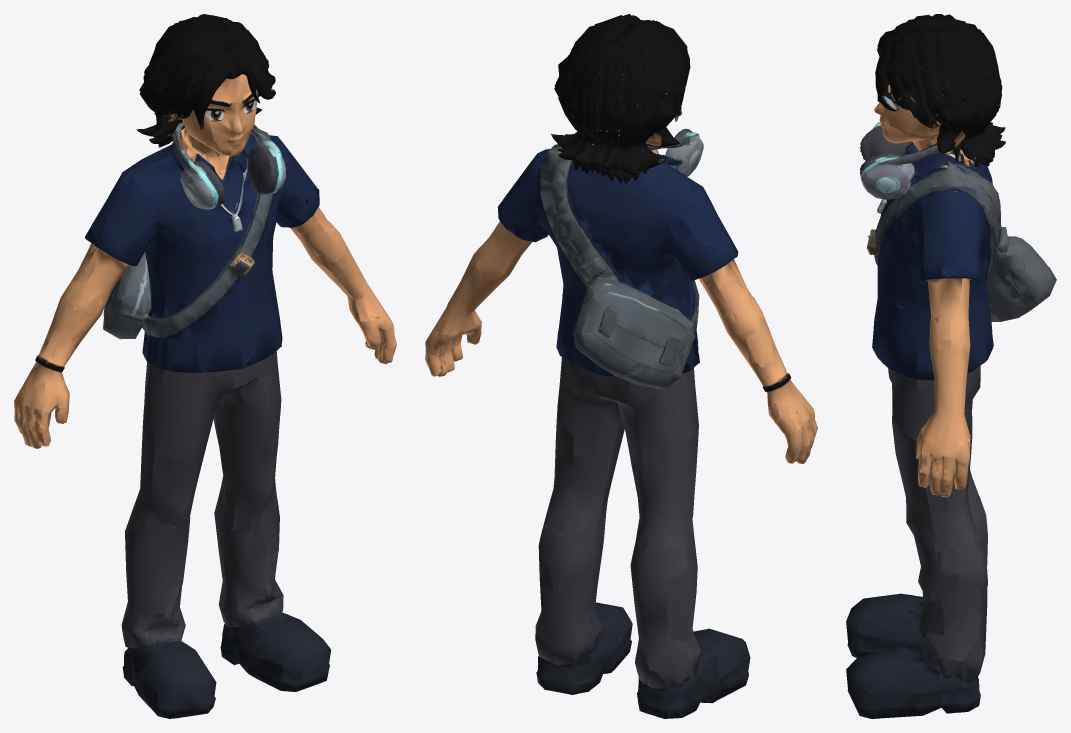
File: JejakAsa_MC_Unity_Test.fbx
3 views of the same model, side by side, from view 1: azimuth 30°, elevation 25°; view 2: azimuth 150°, elevation 25°; view 3: azimuth 270°, elevation 25° (orthographic). The views are drawn at different scales.
Parts seen in each view (by area): view 1: JejakAsa_MC_Unity_Test; view 2: JejakAsa_MC_Unity_Test; view 3: JejakAsa_MC_Unity_Test.
Part boxes in pixels (x1,y1,x2,y2): JejakAsa_MC_Unity_Test: [14, 14, 396, 718]; JejakAsa_MC_Unity_Test: [425, 14, 817, 718]; JejakAsa_MC_Unity_Test: [846, 14, 1056, 718].
Bounding box in the file's own units: 101 × 170 × 49.63.
1 material, 1 textured.
